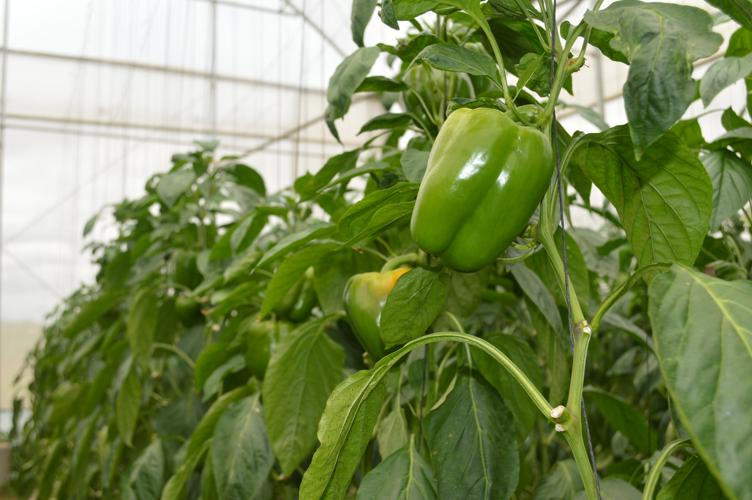BellPepper: (408, 104, 561, 274), (342, 263, 418, 362), (233, 309, 300, 380)
